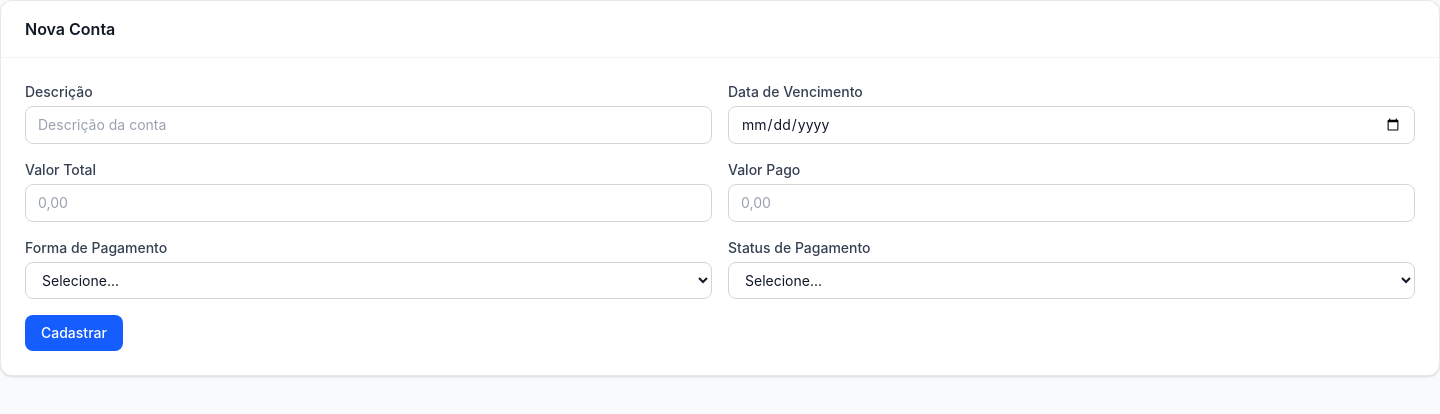
ContaForm › should show friendly validation messages instead of the default zod message when submitting without payment fields
Type "Conta teste" into the field labelled "Descrição" at (368, 125), box [25,106,712,144]
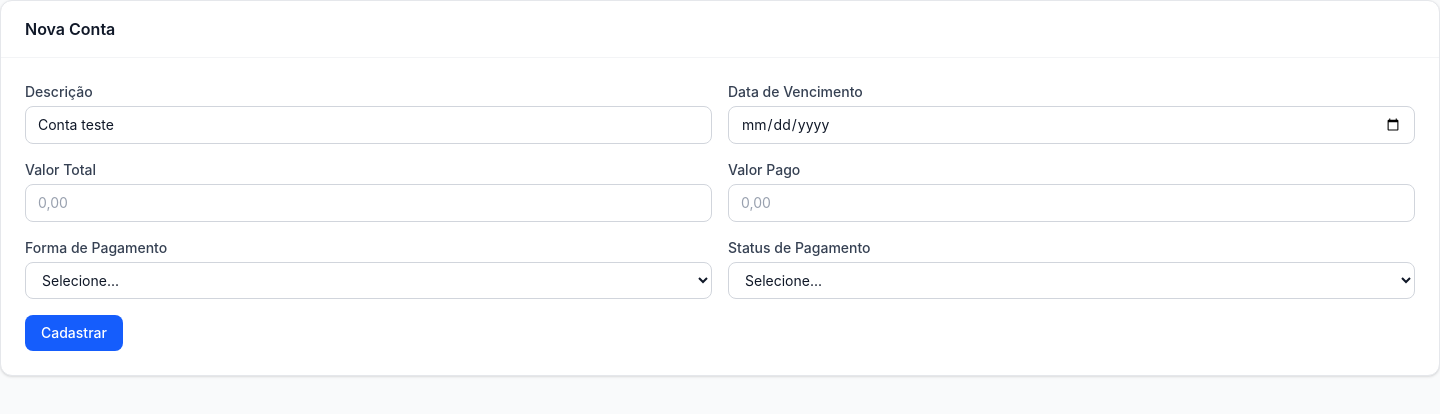
Type "2026-12-31" into the date field labelled "Data de Vencimento" at (1072, 125), box [728,106,1415,144]
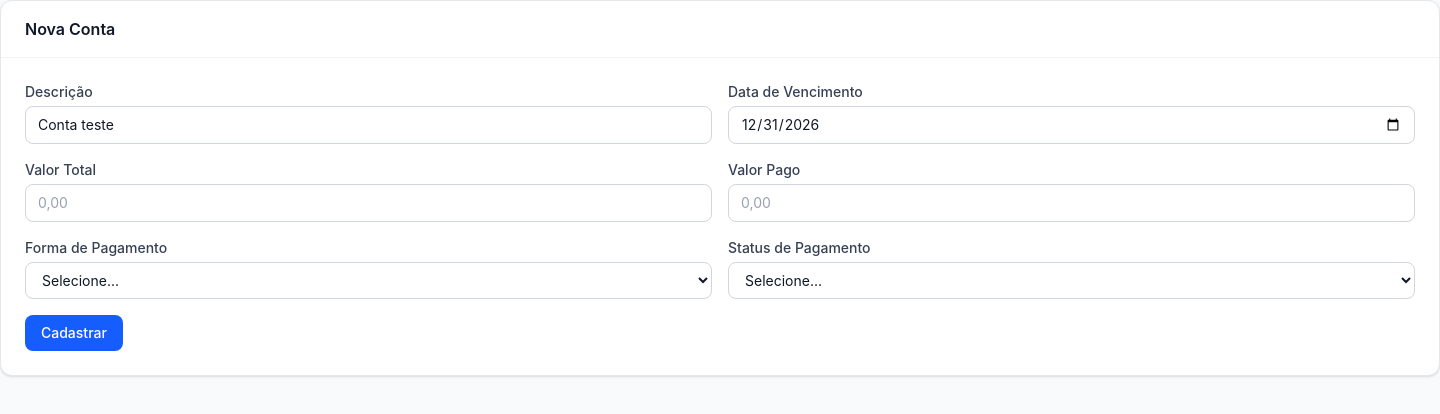
Type "100" into the number field labelled "Valor Total" at (368, 203), box [25,184,712,222]
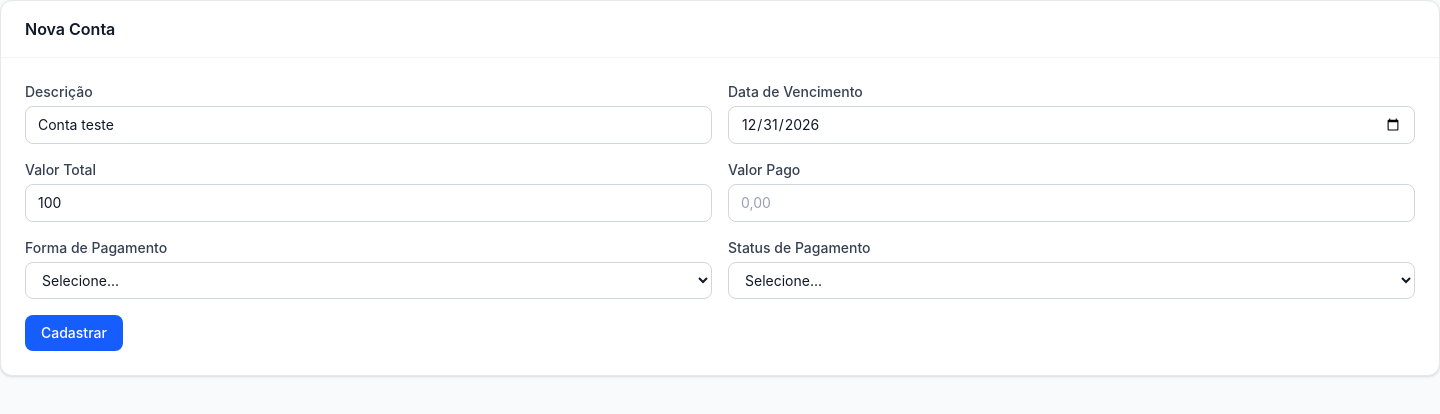
Click the button "Cadastrar" at (74, 333), box [25,315,123,351]
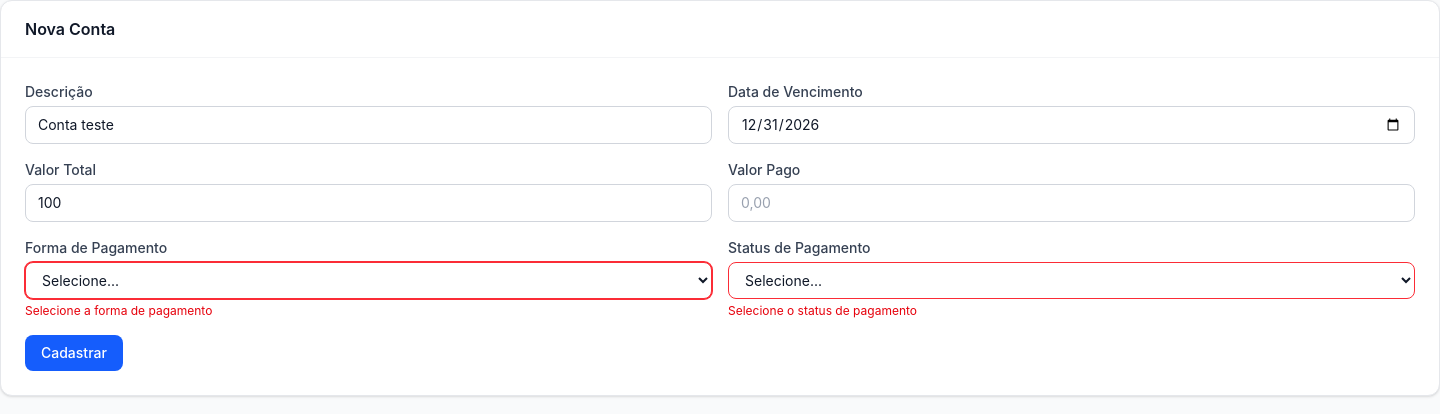
Now the text "Selecione a forma de pagamento" is shown, box [25,303,212,318]
Now the text "Selecione o status de pagamento" is shown, box [728,303,917,318]
